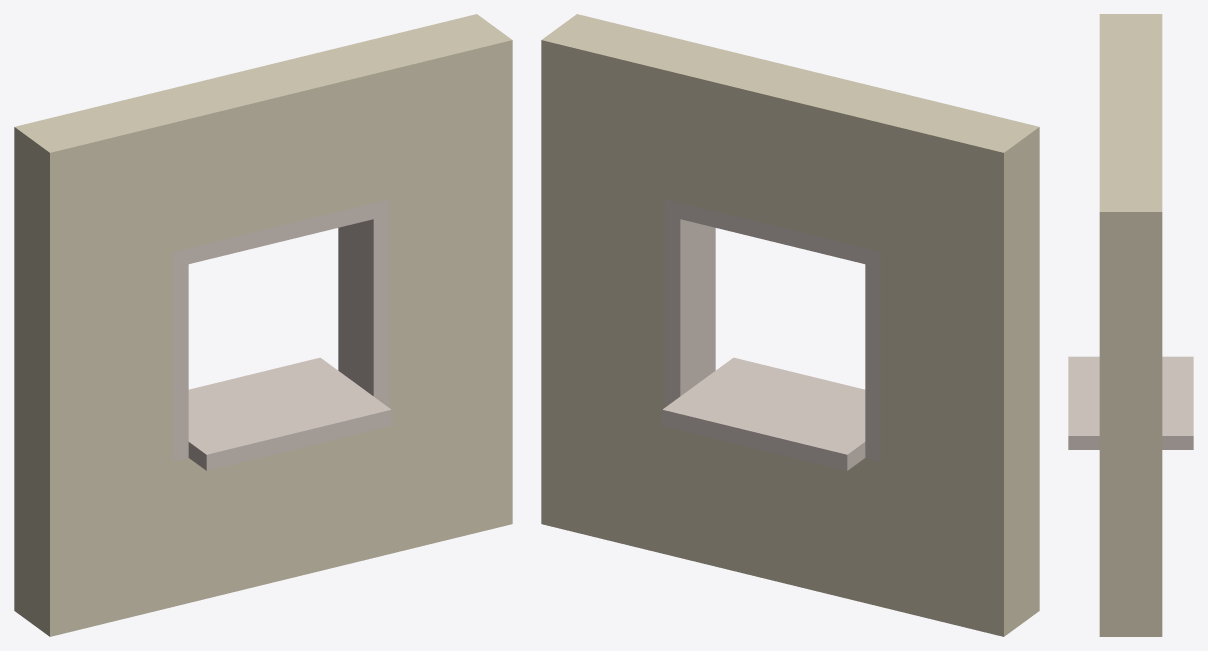
Rendered from roman_wall_window_5.fbx.
The picture shows the model from 3 angles, left to right: view 1: azimuth 30°, elevation 25°; view 2: azimuth 150°, elevation 25°; view 3: azimuth 270°, elevation 25°; orthographic projection. The views are drawn at different scales.
Visible parts, largest first — view 1: Cube.078; view 2: Cube.078; view 3: Cube.078.
Boxes of the visible parts, <box> form: Cube.078: <box>14,14,512,636</box>; Cube.078: <box>541,14,1039,636</box>; Cube.078: <box>1068,14,1193,636</box>.
Size of the model in its own units: 3 by 3 by 0.8.
